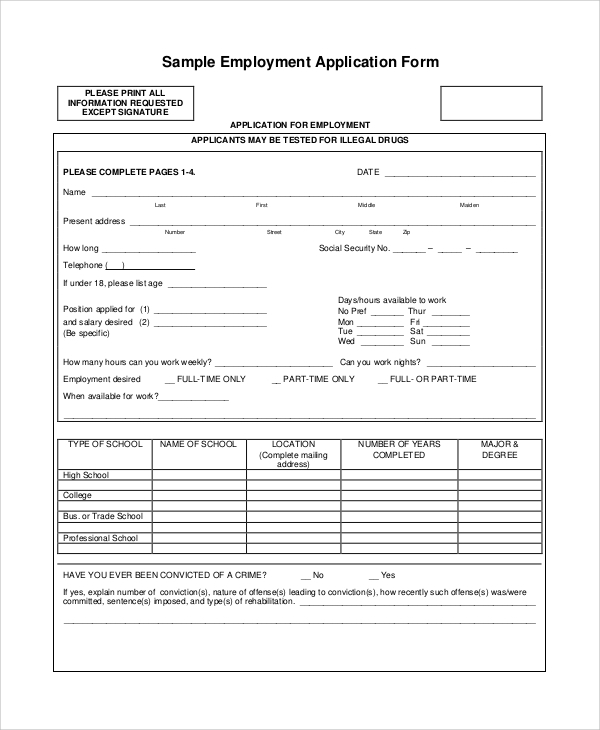table: (57, 151, 541, 421), (58, 438, 543, 557)
